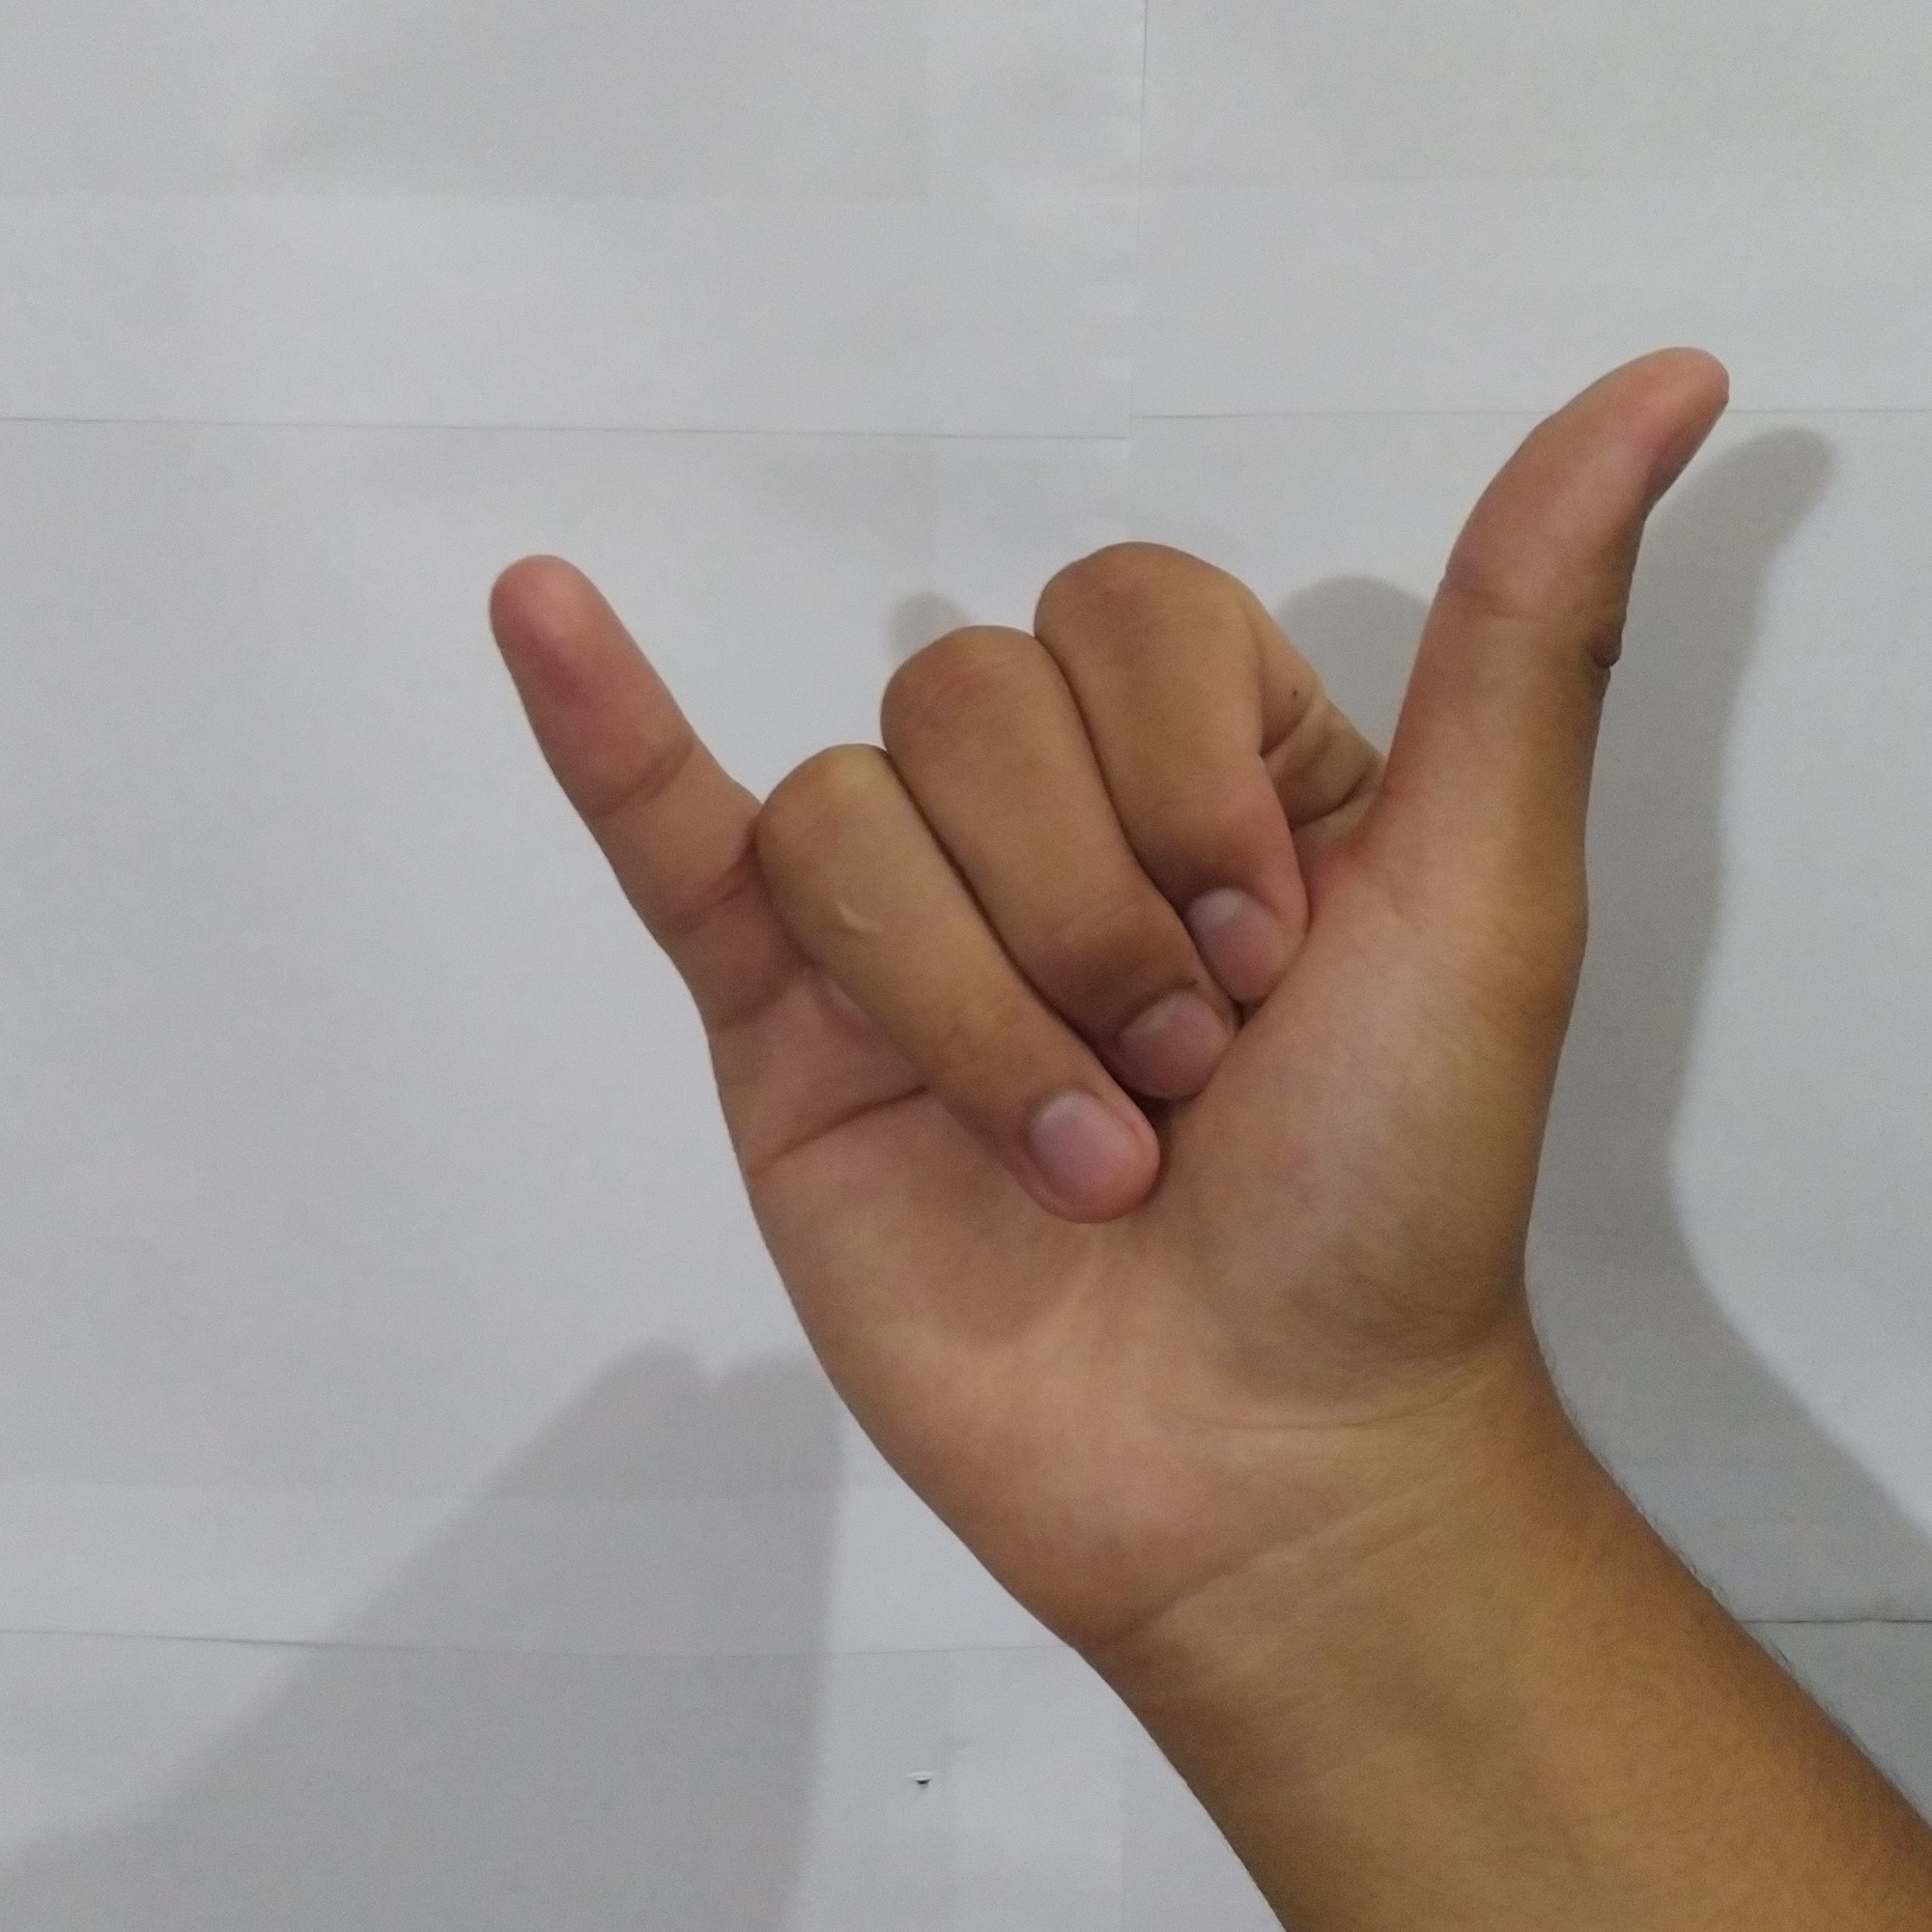Y: (465, 326, 1750, 1644)
